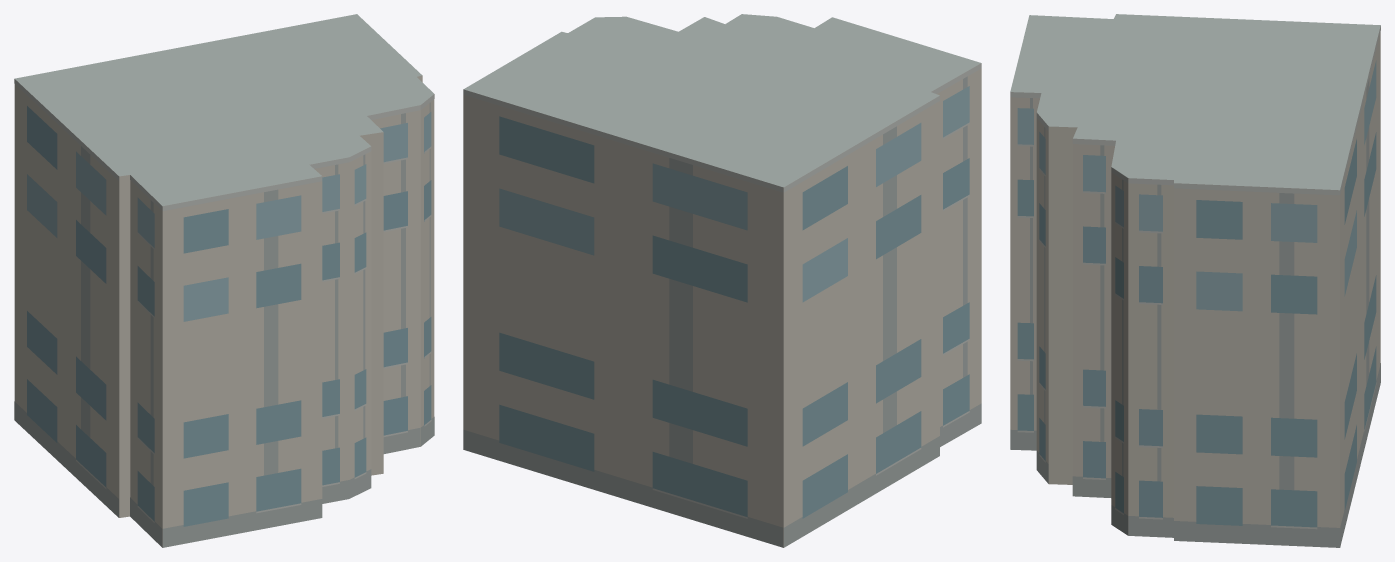
File: survey-upis-32968792.glb
3 views of the same model, side by side, from view 1: azimuth 30°, elevation 25°; view 2: azimuth 150°, elevation 25°; view 3: azimuth 270°, elevation 25° (orthographic). The views are drawn at different scales.
Parts seen in each view (by area): view 1: survey-upis-32968792.tmp; view 2: survey-upis-32968792.tmp; view 3: survey-upis-32968792.tmp.
Boxes of the visible parts, left/top/right/bottom form: survey-upis-32968792.tmp: left=14, top=14, right=434, bottom=547; survey-upis-32968792.tmp: left=463, top=14, right=981, bottom=547; survey-upis-32968792.tmp: left=1010, top=14, right=1380, bottom=547.
Bounding box in the file's own units: 17.39 × 16.45 × 15.46.
